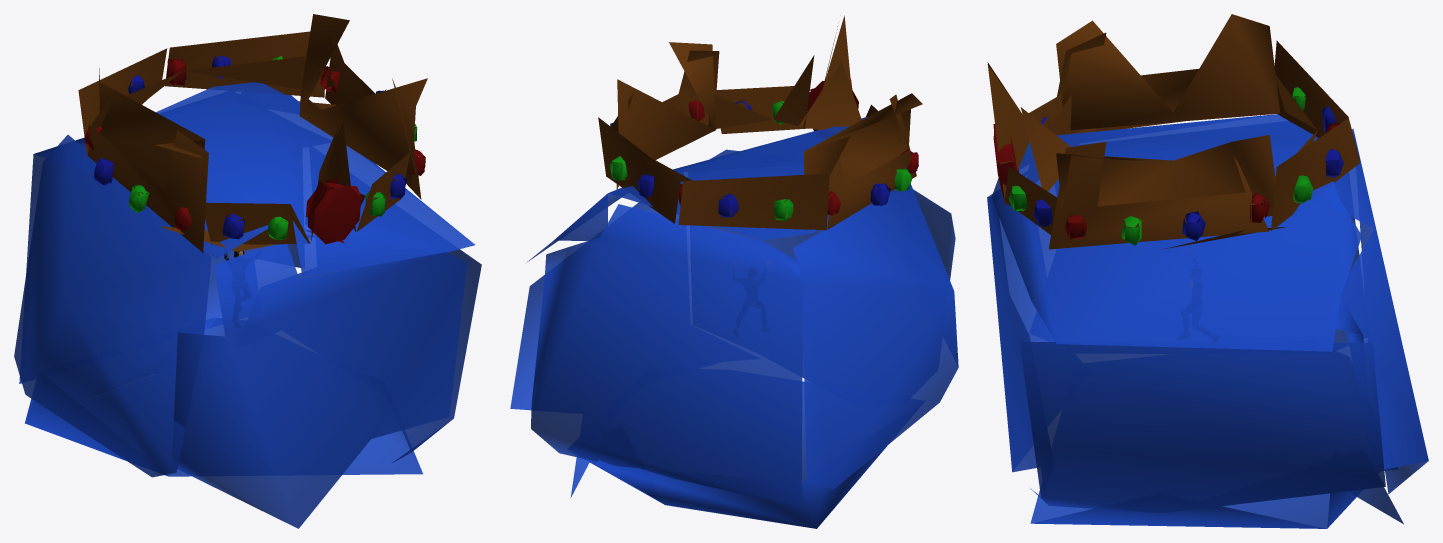
Rendered from king_slime.obj.
The picture shows the model from 3 angles, left to right: view 1: azimuth 30°, elevation 25°; view 2: azimuth 150°, elevation 25°; view 3: azimuth 270°, elevation 25°; orthographic projection. The views are drawn at different scales.
Visible parts, largest first — view 1: Object_5, Object_4, Object_6, Object_7, Object_8; view 2: Object_5, Object_4, Object_8, Object_7, Object_6; view 3: Object_5, Object_4, Object_6, Object_7, Object_8.
Boxes of the visible parts, x1,y1,x2,y2 form: Object_5: [14, 82, 481, 528]; Object_4: [78, 14, 427, 252]; Object_6: [84, 58, 425, 244]; Object_7: [94, 55, 406, 239]; Object_8: [128, 56, 417, 239]; Object_5: [510, 117, 958, 528]; Object_4: [598, 15, 922, 230]; Object_8: [609, 100, 911, 221]; Object_7: [610, 100, 890, 217]; Object_6: [678, 79, 918, 215]; Object_5: [987, 114, 1428, 528]; Object_4: [987, 14, 1359, 249]; Object_6: [993, 123, 1340, 239]; Object_7: [1033, 106, 1343, 241]; Object_8: [1009, 87, 1313, 245].
Size of the model in its own units: 8.75 by 9.08 by 8.55.
